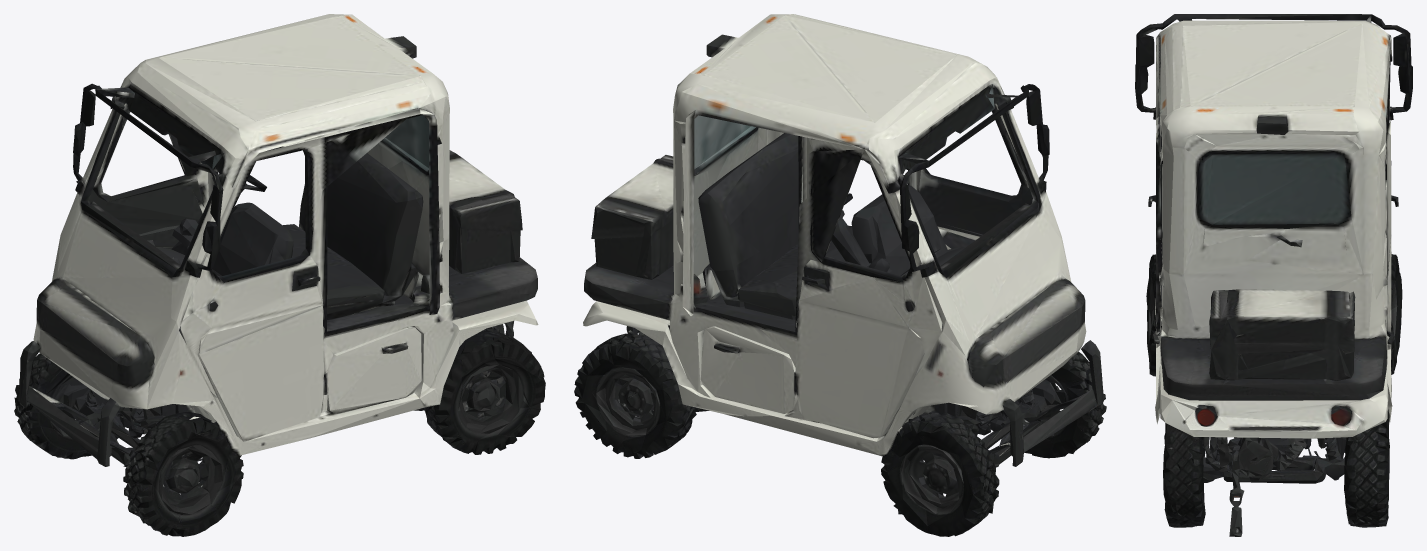
Rendered from web.glb.
3 renders of one model, left to right at view 1: azimuth 30°, elevation 25°; view 2: azimuth 150°, elevation 25°; view 3: azimuth 270°, elevation 25°, orthographic.
Visible parts, largest first — view 1: output_unwrapped; view 2: output_unwrapped; view 3: output_unwrapped.
Part boxes in pixels (box(x1,y1,x2,y2)): output_unwrapped: box(14, 14, 545, 536); output_unwrapped: box(574, 14, 1106, 536); output_unwrapped: box(1135, 14, 1412, 536).
Size of the model in its own units: 1.9 by 1.51 by 0.9822.
1 material, 1 textured.
